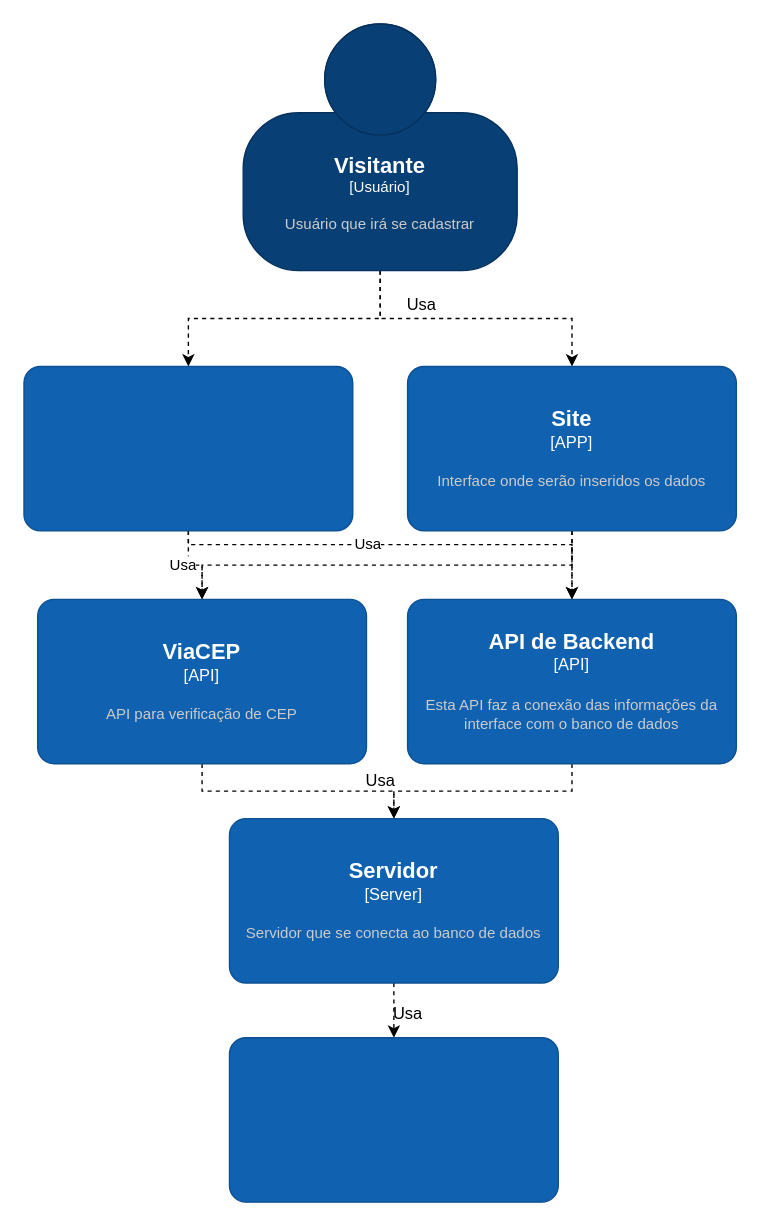
This 760x1226 diagram has some shape labels left out. The centre of each missing label's shape, as x and y in pixels:
Interface [APP] Interface onde serão inseridos os dados: point (188, 448)
MySQL [Banco de Dados] Banco de Dados que armazena os dados dos usuários: point (393, 1119)
